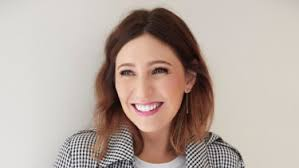white_female: (110, 31, 200, 138)
